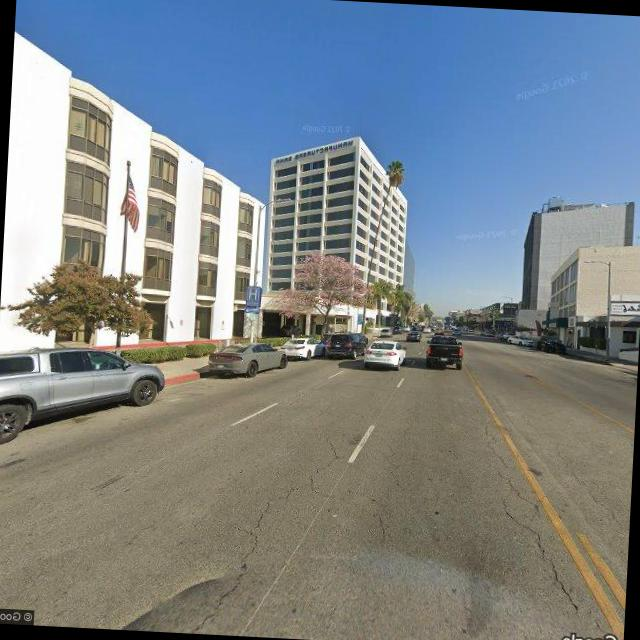pothole: (162, 421, 350, 638), (471, 420, 595, 616)
